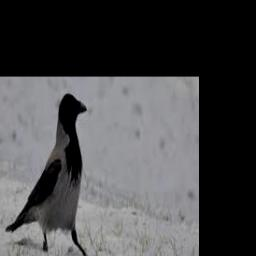Crow: (5, 92, 88, 256)
